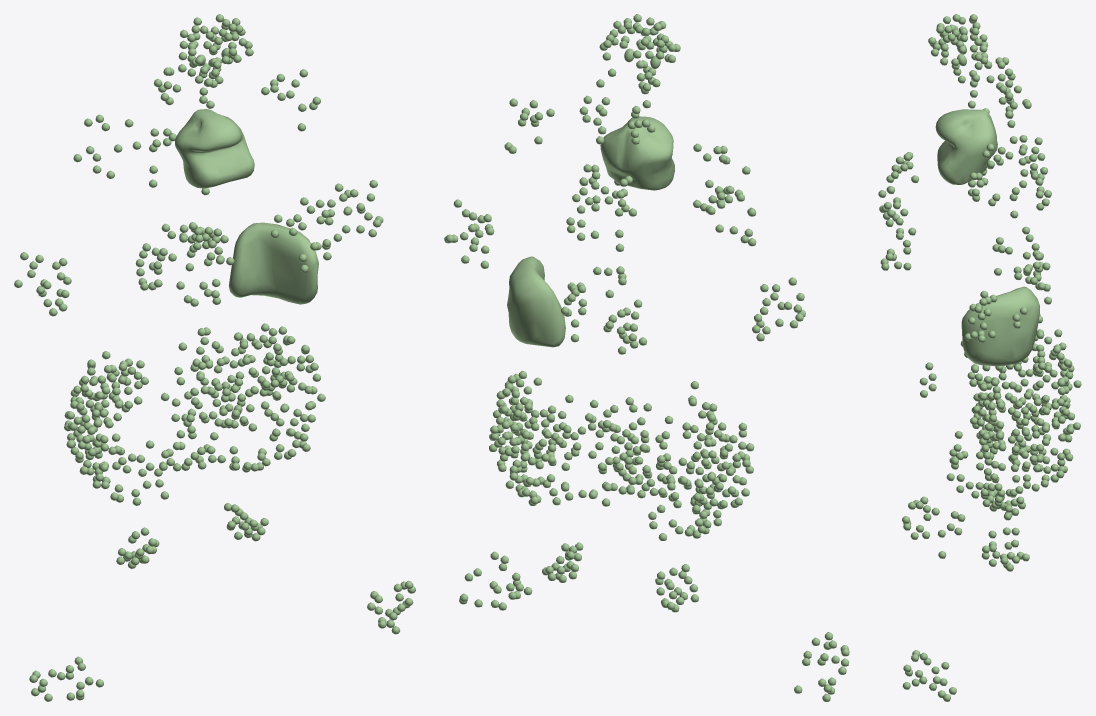
Rendered from pediatric_neonate_male.lymphatic.LOD0.glb.
3 views of the same model, side by side, from view 1: azimuth 30°, elevation 25°; view 2: azimuth 150°, elevation 25°; view 3: azimuth 270°, elevation 25° (orthographic). The views are drawn at different scales.
Visible parts, largest first — view 1: PEDIATRIC.NEONATE.MALE.LYMPHATIC.LYMPHATIC_NODES_TRUNK, PEDIATRIC.NEONATE.MALE.LYMPHATIC.SPLEEN, PEDIATRIC.NEONATE.MALE.LYMPHATIC.THYMUS, PEDIATRIC.NEONATE.MALE.LYMPHATIC.LYMPHATIC_NODES_ET, PEDIATRIC.NEONATE.MALE.LYMPHATIC.LYMPHATIC_NODES_THORACIC, PEDIATRIC.NEONATE.MALE.LYMPHATIC.LYMPHATIC_NODES_ARMS, PEDIATRIC.NEONATE.MALE.LYMPHATIC.LYMPHATIC_NODES_LEGS, PEDIATRIC.NEONATE.MALE.LYMPHATIC.LYMPHATIC_NODES_HEAD; view 2: PEDIATRIC.NEONATE.MALE.LYMPHATIC.LYMPHATIC_NODES_TRUNK, PEDIATRIC.NEONATE.MALE.LYMPHATIC.THYMUS, PEDIATRIC.NEONATE.MALE.LYMPHATIC.SPLEEN, PEDIATRIC.NEONATE.MALE.LYMPHATIC.LYMPHATIC_NODES_THORACIC, PEDIATRIC.NEONATE.MALE.LYMPHATIC.LYMPHATIC_NODES_ET, PEDIATRIC.NEONATE.MALE.LYMPHATIC.LYMPHATIC_NODES_ARMS, PEDIATRIC.NEONATE.MALE.LYMPHATIC.LYMPHATIC_NODES_LEGS, PEDIATRIC.NEONATE.MALE.LYMPHATIC.LYMPHATIC_NODES_HEAD; view 3: PEDIATRIC.NEONATE.MALE.LYMPHATIC.LYMPHATIC_NODES_TRUNK, PEDIATRIC.NEONATE.MALE.LYMPHATIC.SPLEEN, PEDIATRIC.NEONATE.MALE.LYMPHATIC.THYMUS, PEDIATRIC.NEONATE.MALE.LYMPHATIC.LYMPHATIC_NODES_THORACIC, PEDIATRIC.NEONATE.MALE.LYMPHATIC.LYMPHATIC_NODES_ET, PEDIATRIC.NEONATE.MALE.LYMPHATIC.LYMPHATIC_NODES_LEGS, PEDIATRIC.NEONATE.MALE.LYMPHATIC.LYMPHATIC_NODES_ARMS, PEDIATRIC.NEONATE.MALE.LYMPHATIC.LYMPHATIC_NODES_HEAD.
Part boxes in pixels (bbox=[...]): PEDIATRIC.NEONATE.MALE.LYMPHATIC.LYMPHATIC_NODES_TRUNK: bbox=[64, 69, 333, 568]; PEDIATRIC.NEONATE.MALE.LYMPHATIC.SPLEEN: bbox=[229, 222, 318, 304]; PEDIATRIC.NEONATE.MALE.LYMPHATIC.THYMUS: bbox=[175, 109, 254, 188]; PEDIATRIC.NEONATE.MALE.LYMPHATIC.LYMPHATIC_NODES_ET: bbox=[178, 14, 253, 87]; PEDIATRIC.NEONATE.MALE.LYMPHATIC.LYMPHATIC_NODES_THORACIC: bbox=[135, 128, 228, 306]; PEDIATRIC.NEONATE.MALE.LYMPHATIC.LYMPHATIC_NODES_ARMS: bbox=[14, 180, 383, 316]; PEDIATRIC.NEONATE.MALE.LYMPHATIC.LYMPHATIC_NODES_LEGS: bbox=[29, 580, 415, 701]; PEDIATRIC.NEONATE.MALE.LYMPHATIC.LYMPHATIC_NODES_HEAD: bbox=[154, 50, 223, 108]; PEDIATRIC.NEONATE.MALE.LYMPHATIC.LYMPHATIC_NODES_TRUNK: bbox=[489, 98, 756, 612]; PEDIATRIC.NEONATE.MALE.LYMPHATIC.THYMUS: bbox=[600, 116, 674, 190]; PEDIATRIC.NEONATE.MALE.LYMPHATIC.SPLEEN: bbox=[507, 256, 565, 347]; PEDIATRIC.NEONATE.MALE.LYMPHATIC.LYMPHATIC_NODES_THORACIC: bbox=[561, 171, 647, 354]; PEDIATRIC.NEONATE.MALE.LYMPHATIC.LYMPHATIC_NODES_ET: bbox=[599, 14, 680, 94]; PEDIATRIC.NEONATE.MALE.LYMPHATIC.LYMPHATIC_NODES_ARMS: bbox=[444, 199, 805, 341]; PEDIATRIC.NEONATE.MALE.LYMPHATIC.LYMPHATIC_NODES_LEGS: bbox=[459, 551, 849, 701]; PEDIATRIC.NEONATE.MALE.LYMPHATIC.LYMPHATIC_NODES_HEAD: bbox=[579, 79, 655, 144]; PEDIATRIC.NEONATE.MALE.LYMPHATIC.LYMPHATIC_NODES_TRUNK: bbox=[878, 57, 1081, 571]; PEDIATRIC.NEONATE.MALE.LYMPHATIC.SPLEEN: bbox=[961, 286, 1039, 366]; PEDIATRIC.NEONATE.MALE.LYMPHATIC.THYMUS: bbox=[935, 109, 997, 184]; PEDIATRIC.NEONATE.MALE.LYMPHATIC.LYMPHATIC_NODES_THORACIC: bbox=[988, 135, 1051, 304]; PEDIATRIC.NEONATE.MALE.LYMPHATIC.LYMPHATIC_NODES_ET: bbox=[928, 14, 988, 83]; PEDIATRIC.NEONATE.MALE.LYMPHATIC.LYMPHATIC_NODES_LEGS: bbox=[902, 496, 965, 701]; PEDIATRIC.NEONATE.MALE.LYMPHATIC.LYMPHATIC_NODES_ARMS: bbox=[964, 156, 1030, 342]; PEDIATRIC.NEONATE.MALE.LYMPHATIC.LYMPHATIC_NODES_HEAD: bbox=[968, 61, 1021, 127].
Bounding box in the file's own units: 0.1828 × 0.2961 × 0.0899.
